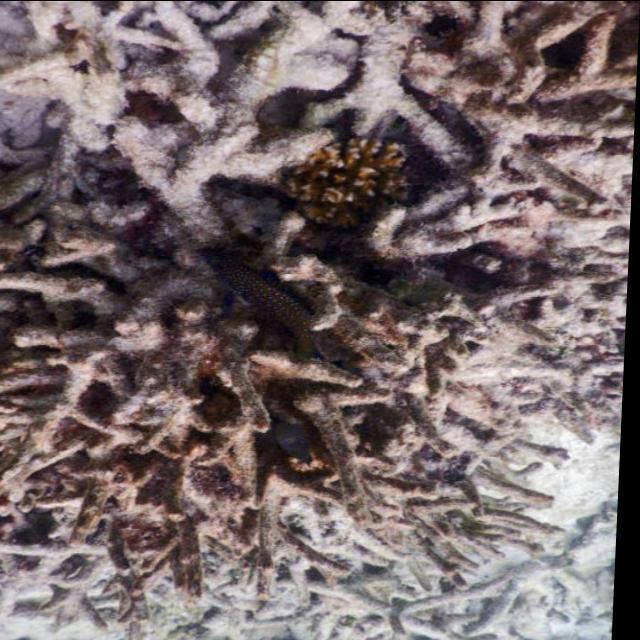Dead Coral: (39, 63, 574, 557)
